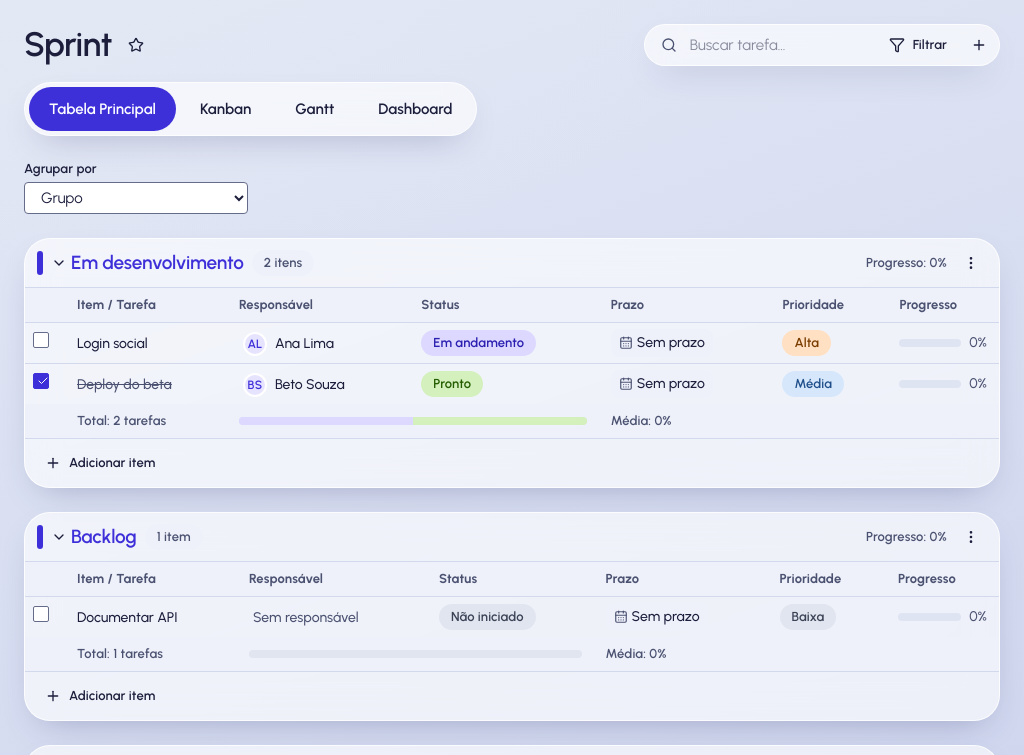
busca e filtros nas visões do board › Tabela › nada encontrado: estado vazio próprio (não "Nenhuma tarefa ainda") e o botão traz tudo de volta
This screenshot has width=1024, height=755.
Check: the heading "Em desenvolvimento" is shown, box [71,251,244,275]
Type "zzzz" into the search field named "Buscar neste quadro". click: {"x": 761, "y": 45}
box: [649,29,873,61]
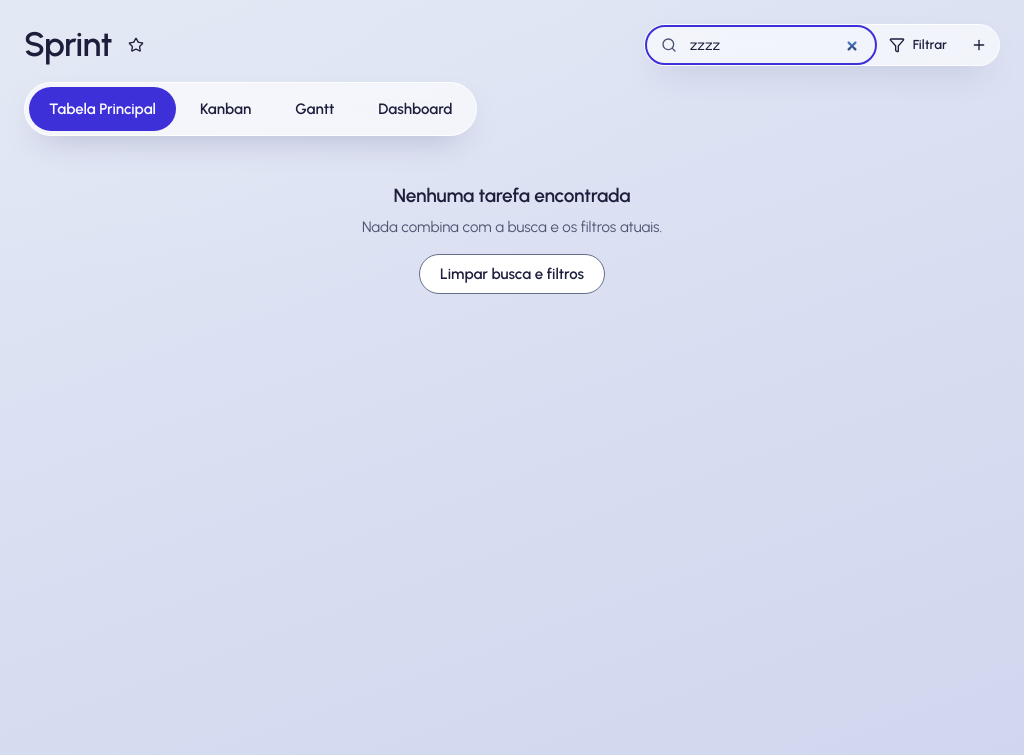
Check: the text "Nenhuma tarefa encontrada" is shown, box [394,184,630,208]
Click the button "Limpar busca e filtros". click: {"x": 512, "y": 274}
box: [419,254,605,294]
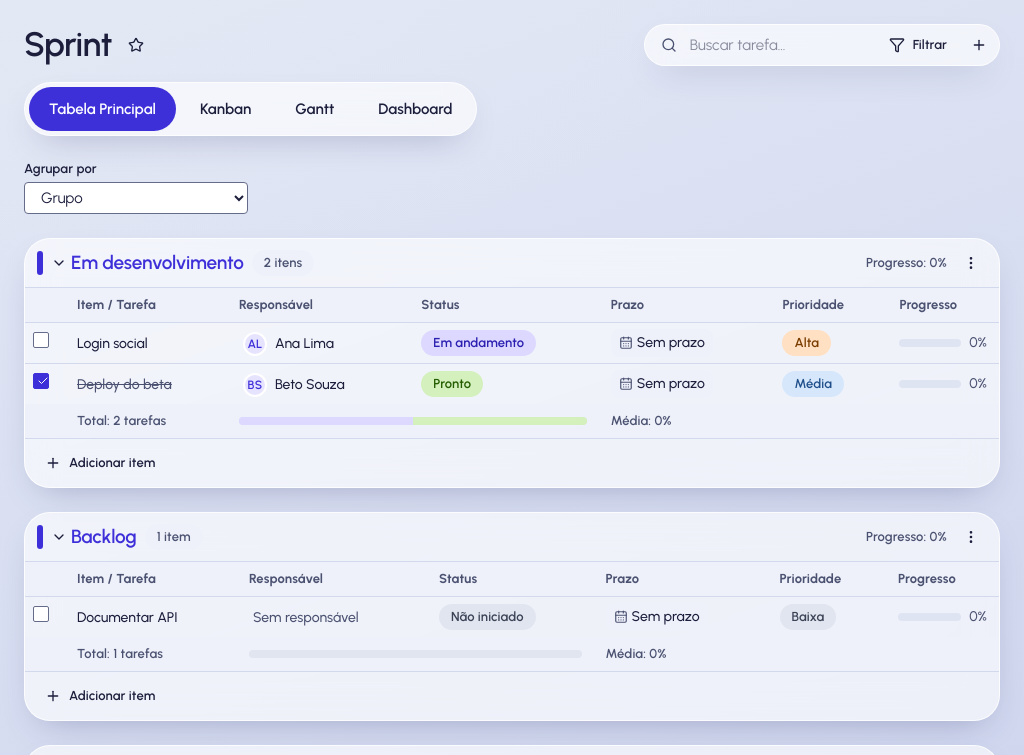
Check: the heading "Em desenvolvimento" is shown, box [71,251,244,275]
Check: the search field named "Buscar neste quadro" is empty, box [649,29,873,61]
